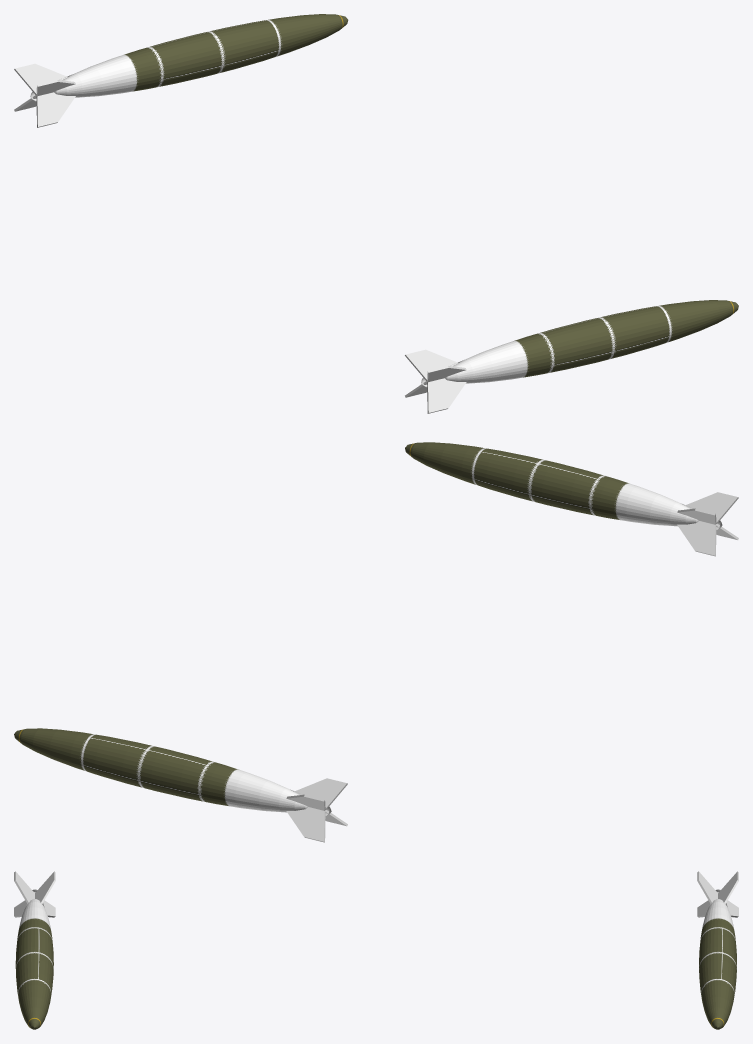
The model's file is f15egbu3117.glb.
3 views of the same model, one above another, from view 1: azimuth 30°, elevation 25°; view 2: azimuth 150°, elevation 25°; view 3: azimuth 270°, elevation 25° (orthographic). The views are drawn at different scales.
Visible parts, largest first — view 1: 立方体.026, 立方体.024; view 2: 立方体.024, 立方体.026; view 3: 立方体.026, 立方体.024.
Boxes of the visible parts, left/top/right/bottom form: 立方体.026: left=405, top=300, right=738, bottom=413; 立方体.024: left=14, top=14, right=348, bottom=127; 立方体.024: left=14, top=728, right=347, bottom=842; 立方体.026: left=405, top=442, right=738, bottom=556; 立方体.026: left=14, top=871, right=55, bottom=1029; 立方体.024: left=697, top=871, right=738, bottom=1029.
Bounding box in the file's own units: 3.8 × 0.4884 × 8.48.
Materials: 1 (1 with a texture image).
